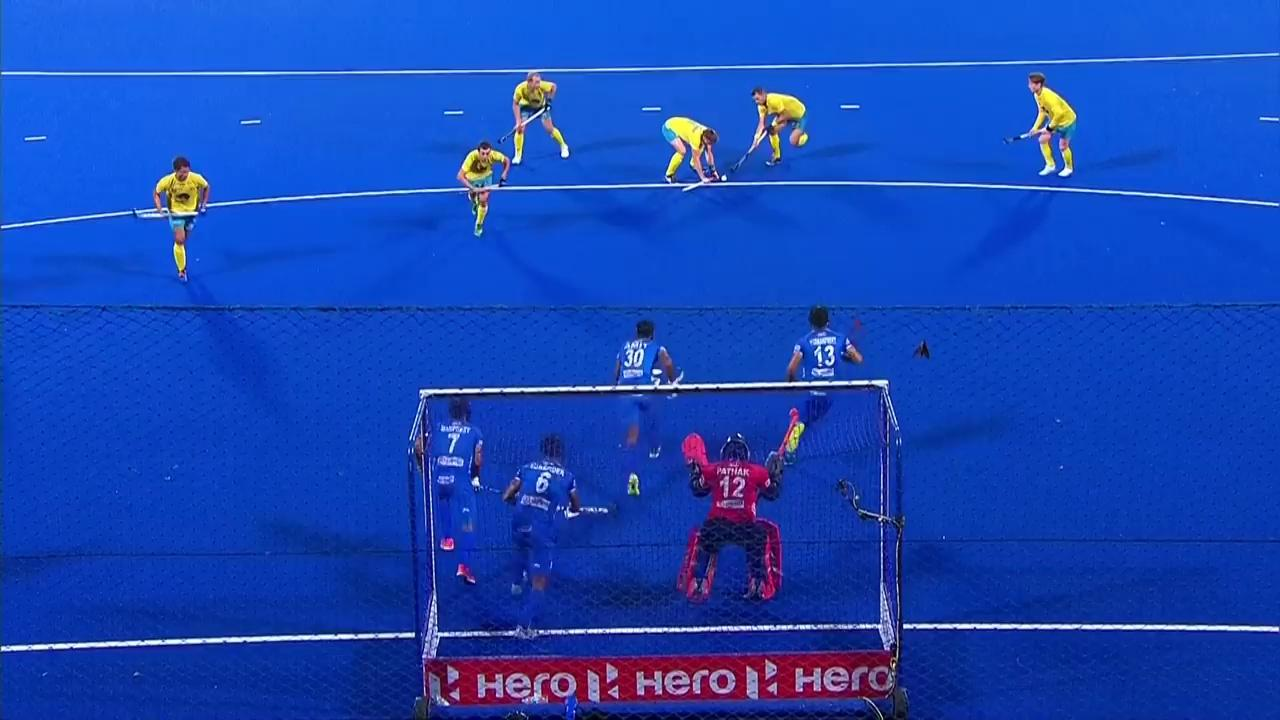ball: (714, 172, 735, 187)
